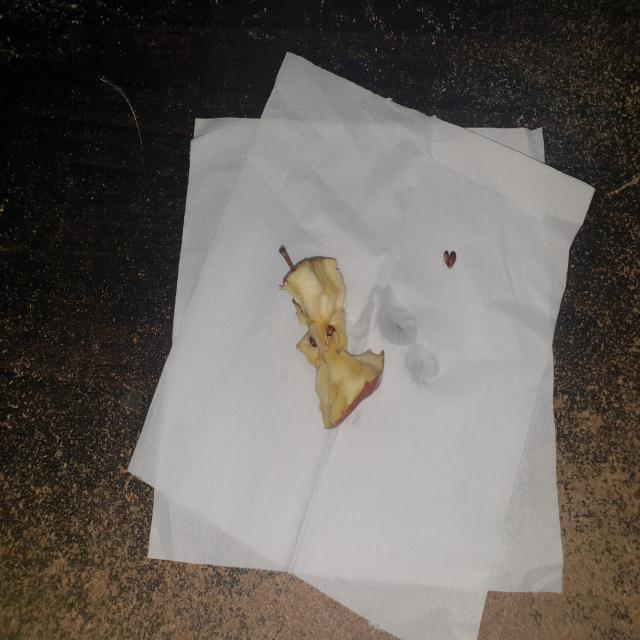apple: (270, 234, 392, 432)
